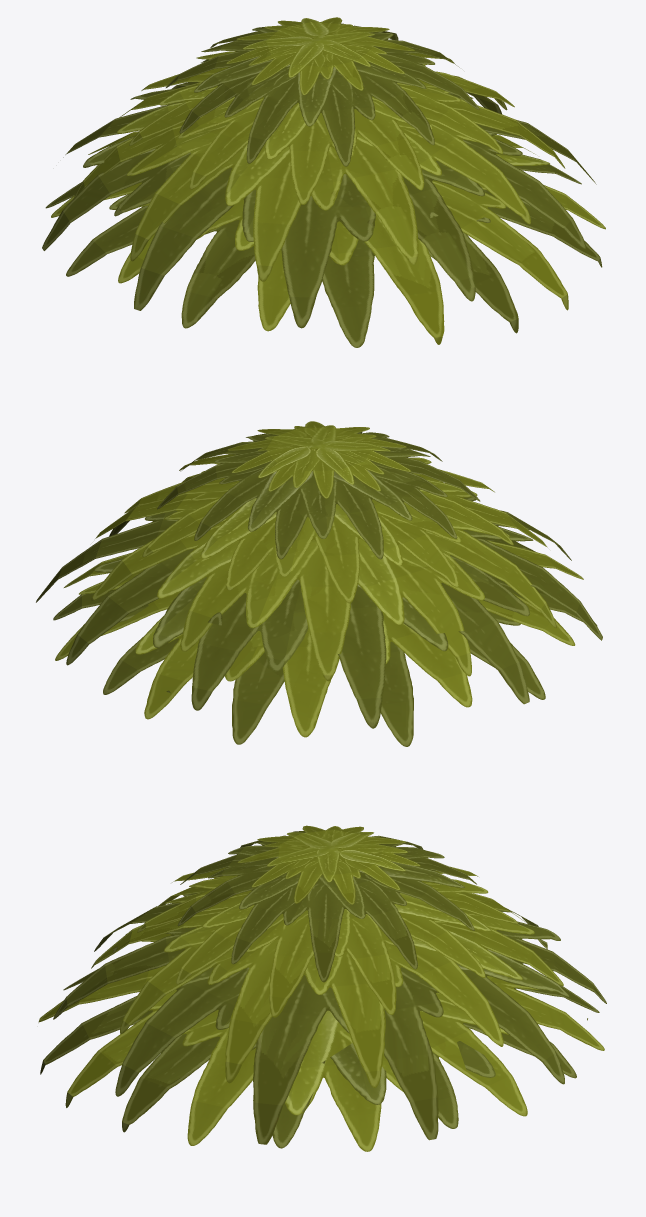
The model's file is Bush02.glb.
The picture shows the model from 3 angles, top to bottom: view 1: azimuth 30°, elevation 25°; view 2: azimuth 150°, elevation 25°; view 3: azimuth 270°, elevation 25°; orthographic projection.
Visible parts, largest first — view 1: Bush02; view 2: Bush02; view 3: Bush02.
Part boxes in pixels (x1,y1,x2,y2): Bush02: [42, 17, 605, 347]; Bush02: [36, 421, 602, 746]; Bush02: [38, 825, 606, 1151].
Size of the model in its own units: 1.95 by 0.7855 by 1.96.
Materials: 1 (1 with a texture image).
